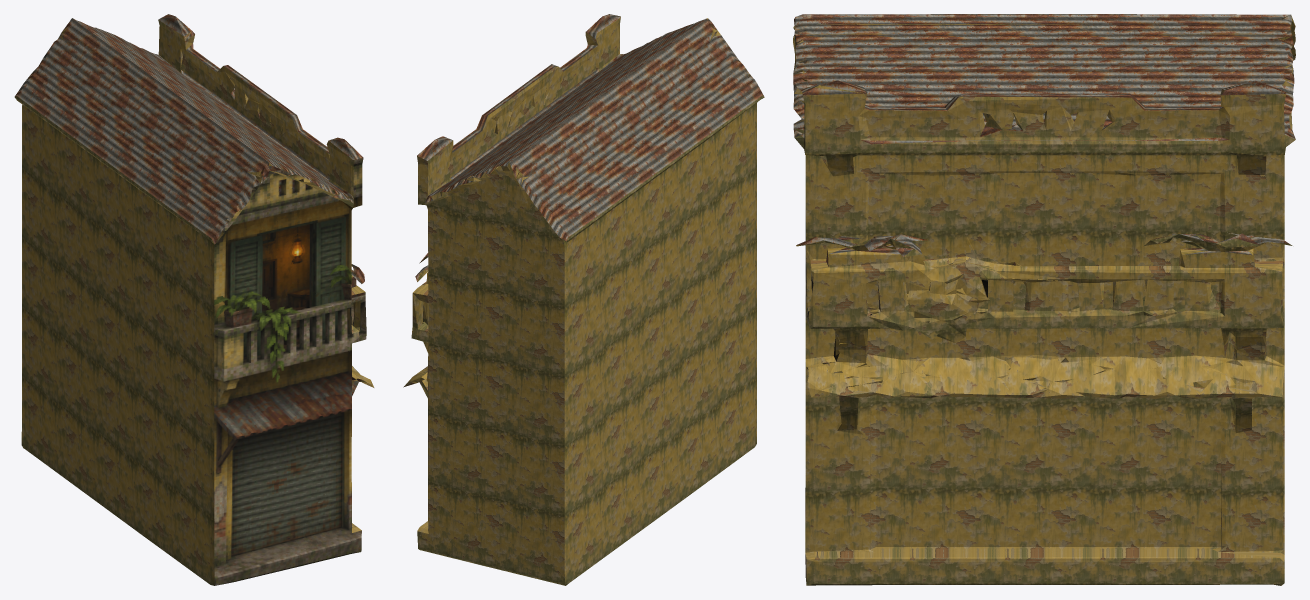
The model's file is tube_house_a_reduced.glb.
3 renders of one model, left to right at view 1: azimuth 30°, elevation 25°; view 2: azimuth 150°, elevation 25°; view 3: azimuth 270°, elevation 25°, orthographic. The views are drawn at different scales.
Visible parts, largest first — view 1: Wall, Front, Roof; view 2: Wall, Roof; view 3: Wall, Roof, Front.
Part boxes in pixels (x1,y1,x2,y2): Wall: (14,20,374,585); Front: (214,104,366,585); Roof: (15,14,364,283); Wall: (403,16,764,585); Roof: (415,14,763,281); Wall: (793,15,1295,585); Roof: (793,14,1295,256); Front: (793,17,1046,583).
Size of the model in its own units: 0.8448 by 1.99 by 1.76.
3 materials, 3 textured.
